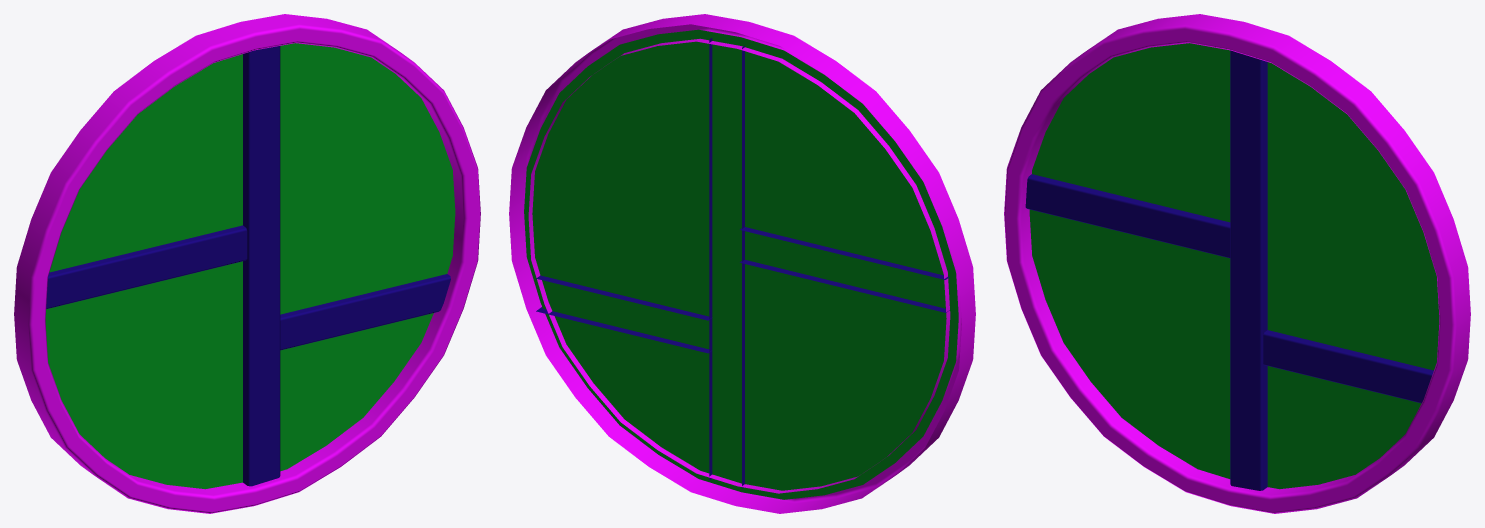
The model's file is Fenetre_Ronde_Petite_4x4x0_01.FBX.
The picture shows the model from 3 angles, left to right: view 1: azimuth 30°, elevation 25°; view 2: azimuth 150°, elevation 25°; view 3: azimuth 330°, elevation 25°; orthographic projection.
Visible parts, largest first — view 1: Fenetre_Ronde_Petite_4x4x0_01; view 2: Fenetre_Ronde_Petite_4x4x0_01; view 3: Fenetre_Ronde_Petite_4x4x0_01.
Part boxes in pixels (x1,y1,x2,y2): Fenetre_Ronde_Petite_4x4x0_01: (14, 14, 480, 513); Fenetre_Ronde_Petite_4x4x0_01: (509, 14, 975, 513); Fenetre_Ronde_Petite_4x4x0_01: (1004, 14, 1470, 513).
Size of the model in its own units: 208 by 208 by 12.68.
